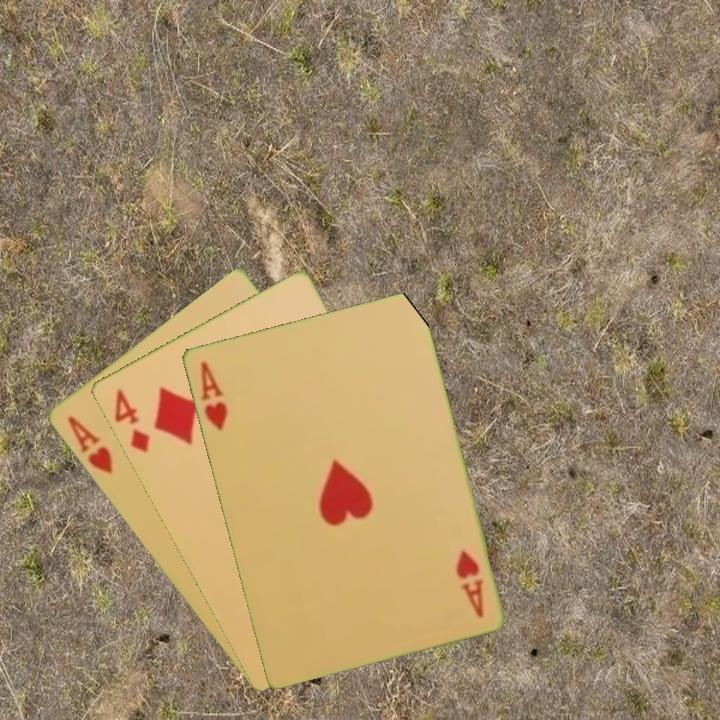4d: (110, 385, 152, 456)
Ah: (63, 412, 116, 477), (196, 358, 230, 434), (452, 547, 486, 621)
